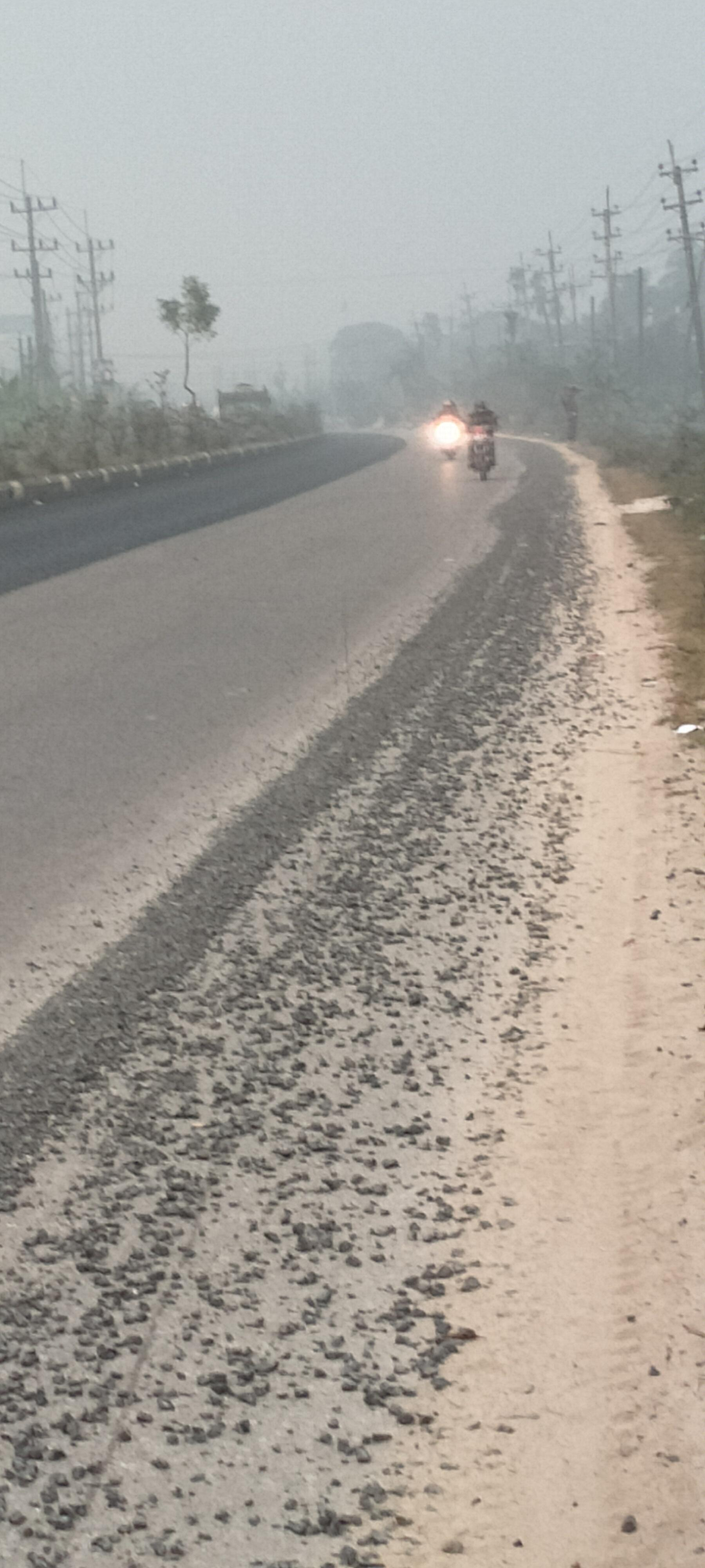Bike: (463, 387, 499, 498), (426, 379, 465, 470)
Truck: (206, 366, 289, 449)
